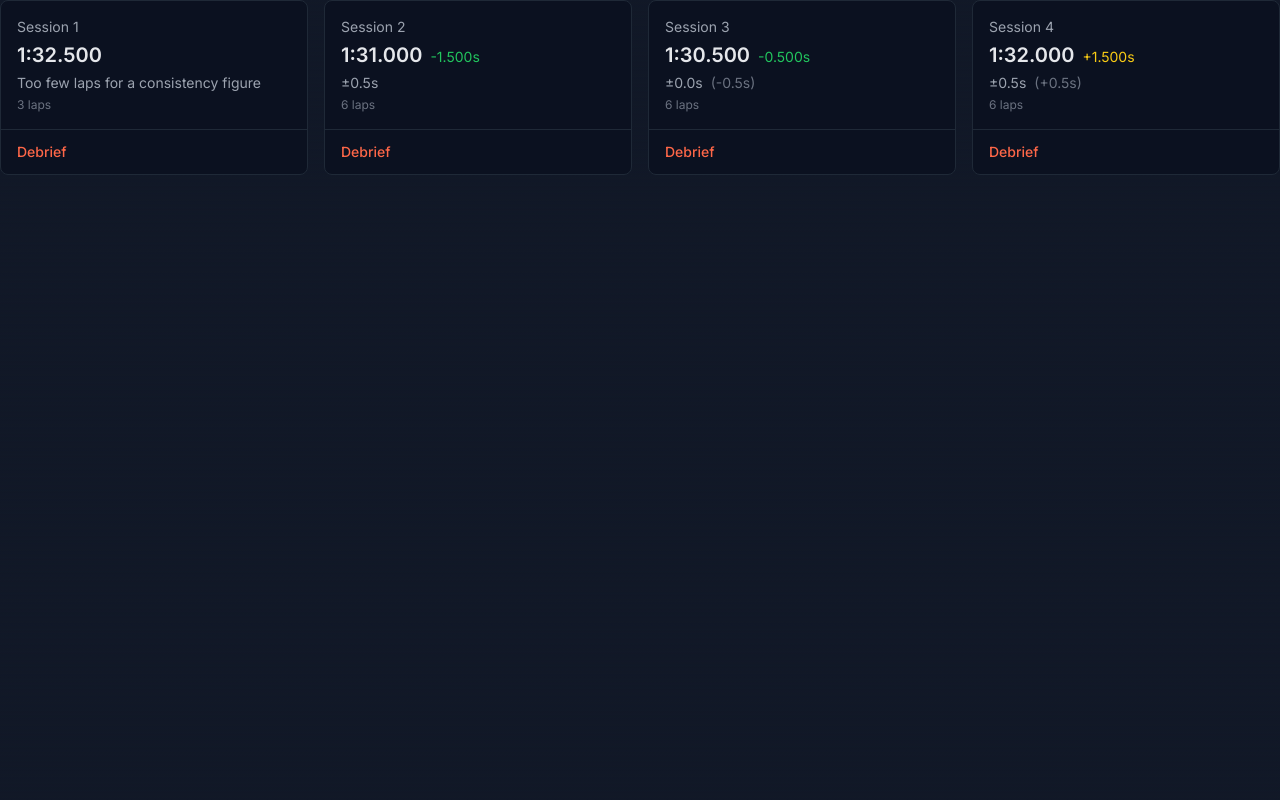
Test: SessionProgressionStrip › opens the debrief sheet from any card, not just the latest
Note: Open Session 2's sheet — its baseline is Session 1, named as such.
What coordinates should you click on to do the following:
click the button "Debrief" below "1:31.000"
I would click on:
 (366, 152)
Its box is [325,129,631,174].
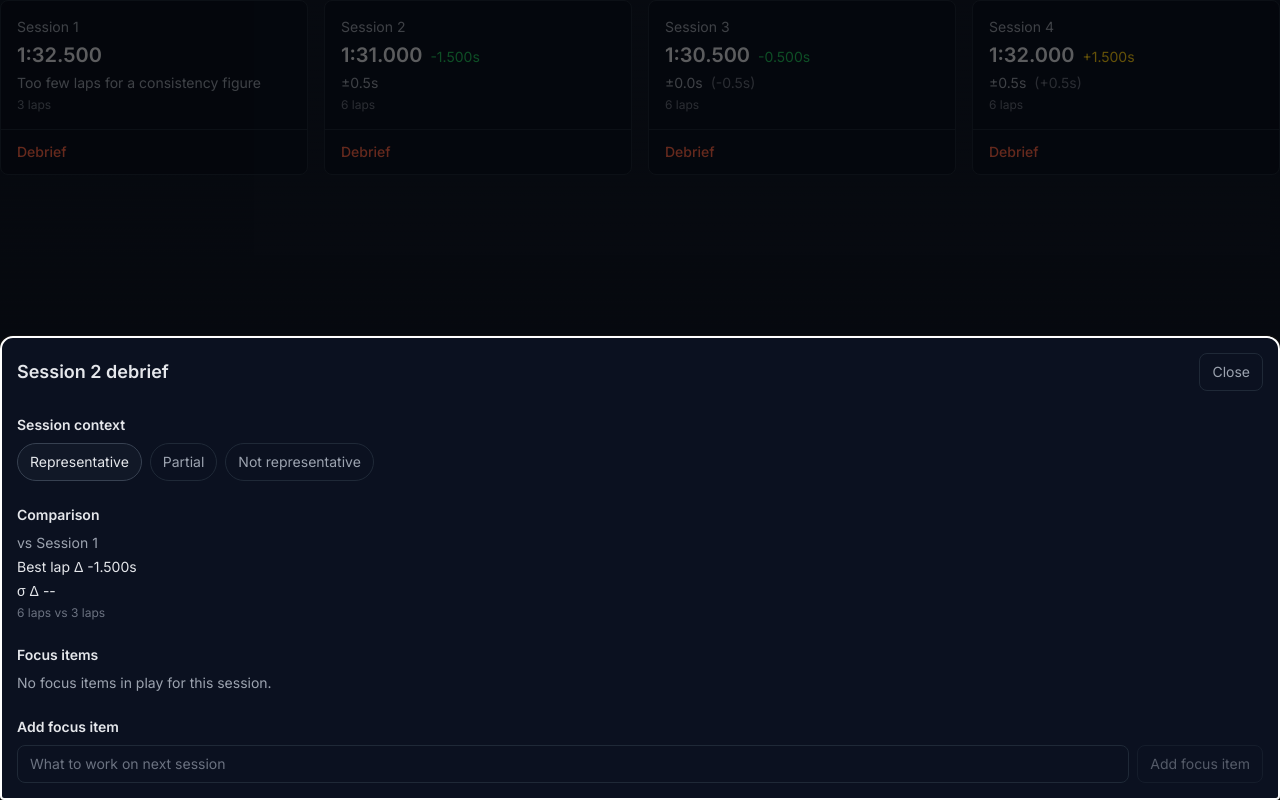
Check: the dialog "Session 2 debrief" is shown, box [0,336,1279,799]
Check: the text with test id "delta-baseline" reads "vs Session 1", box [17,534,98,551]
